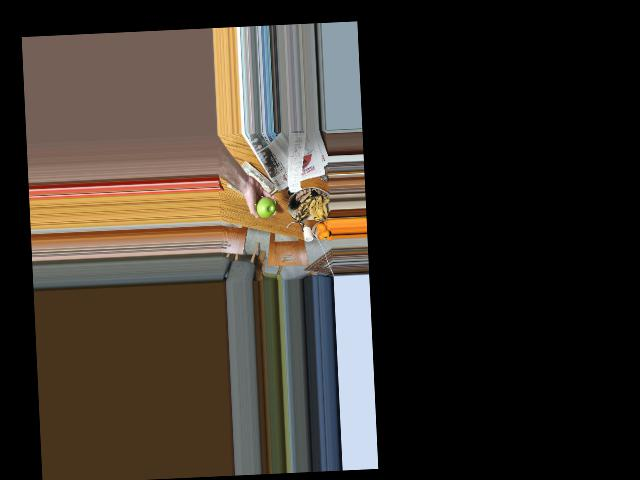apple: (256, 195, 275, 218)
